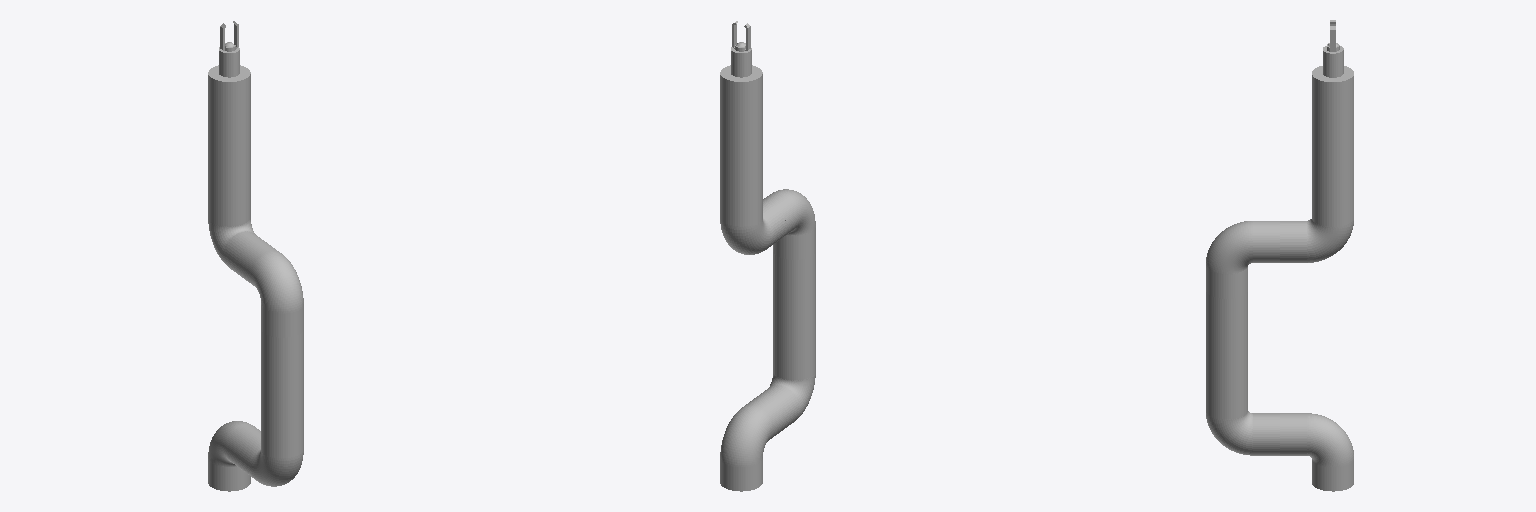
URDF robot description (RobotArm):
<?xml version="1.0" ?>
<robot name="RobotArm" xmlns:xacro="http://www.ros.org/wiki/xacro">

  <material name="silver">
    <color rgba="0.75 0.75 0.75 1.0"/>
  </material>

  <link name="base_link">
    <inertial>
      <origin xyz="0.0 3.0473805790115944e-17 0.06710526315789474" rpy="0 0 0"/>
      <mass value="7.028528164243764"/>
      <inertia ixx="0.01717" iyy="0.01717" izz="0.00701" ixy="0.0" iyz="0.0" ixz="0.0"/>
    </inertial>
    <visual>
      <origin xyz="0 0 0" rpy="0 0 0"/>
      <geometry>
        <mesh filename="package://moveit_resources_panda_description/meshes/collision/base_link.stl" scale="0.001 0.001 0.001"/>
      </geometry>
      <material name="silver"/>
    </visual>
    <collision>
      <origin xyz="0 0 0" rpy="0 0 0"/>
      <geometry>
        <mesh filename="package://moveit_resources_panda_description/meshes/collision/base_link.stl" scale="0.001 0.001 0.001"/>
      </geometry>
    </collision>
  </link>

  <link name="Componente4_1">
    <inertial>
      <origin xyz="1.0134334491220965e-17 -0.026755885129270393 0.07324411487072963" rpy="0 0 0"/>
      <mass value="7.044896154850844"/>
      <inertia ixx="0.018585" iyy="0.012111" izz="0.012111" ixy="0.0" iyz="0.005089" ixz="0.0"/>
    </inertial>
    <visual>
      <origin xyz="0.0 0.0 -0.15" rpy="0 0 0"/> <geometry>
        <mesh filename="package://moveit_resources_panda_description/meshes/collision/Componente4_1.stl" scale="0.001 0.001 0.001"/>
      </geometry>
      <material name="silver"/>
    </visual>
    <collision>
      <origin xyz="0.0 0.0 -0.15" rpy="0 0 0"/> <geometry>
        <mesh filename="package://moveit_resources_panda_description/meshes/collision/Componente4_1.stl" scale="0.001 0.001 0.001"/>
      </geometry>
    </collision>
  </link>

  <link name="Componente5_1">
    <inertial>
      <origin xyz="0.0 -0.08738047991046766 0.11828872124986534" rpy="0 0 0"/>
      <mass value="14.93657690066839"/>
      <inertia ixx="0.162427" iyy="0.153287" izz="0.021088" ixy="0.0" iyz="0.022342" ixz="0.0"/>
    </inertial>
    <visual>
      <origin xyz="0.0 0.1 -0.25" rpy="0 0 0"/> <geometry>
        <mesh filename="package://moveit_resources_panda_description/meshes/collision/Componente5_1.stl" scale="0.001 0.001 0.001"/>
      </geometry>
      <material name="silver"/>
    </visual>
    <collision>
      <origin xyz="0.0 0.1 -0.25" rpy="0 0 0"/> <geometry>
        <mesh filename="package://moveit_resources_panda_description/meshes/collision/Componente5_1.stl" scale="0.001 0.001 0.001"/>
      </geometry>
    </collision>
  </link>

  <link name="Componente6_1">
    <inertial>
      <origin xyz="0.0 0.026755885129270546 0.07324411487072946" rpy="0 0 0"/>
      <mass value="7.044896154850833"/>
      <inertia ixx="0.018585" iyy="0.012111" izz="0.012111" ixy="0.0" iyz="-0.005089" ixz="0.0"/>
    </inertial>
    <visual>
      <origin xyz="0.0 0.2 -0.55" rpy="0 0 0"/> <geometry>
        <mesh filename="package://moveit_resources_panda_description/meshes/collision/Componente6_1.stl" scale="0.001 0.001 0.001"/>
      </geometry>
      <material name="silver"/>
    </visual>
    <collision>
      <origin xyz="0.0 0.2 -0.55" rpy="0 0 0"/> <geometry>
        <mesh filename="package://moveit_resources_panda_description/meshes/collision/Componente6_1.stl" scale="0.001 0.001 0.001"/>
      </geometry>
    </collision>
  </link>

  <link name="Componente7_1">
    <inertial>
      <origin xyz="2.673220995321651e-07 0.08918779058748391 0.1494478643113606" rpy="0 0 0"/>
      <mass value="17.433294627889037"/>
      <inertia ixx="0.266514" iyy="0.257034" izz="0.023108" ixy="0.0" iyz="-0.028215" ixz="-1e-06"/>
    </inertial>
    <visual>
      <origin xyz="0.0 0.1 -0.65" rpy="0 0 0"/> <geometry>
        <mesh filename="package://moveit_resources_panda_description/meshes/collision/Componente7_1.stl" scale="0.001 0.001 0.001"/>
      </geometry>
      <material name="silver"/>
    </visual>
    <collision>
      <origin xyz="0.0 0.1 -0.65" rpy="0 0 0"/> <geometry>
        <mesh filename="package://moveit_resources_panda_description/meshes/collision/Componente7_1.stl" scale="0.001 0.001 0.001"/>
      </geometry>
    </collision>
  </link>

  <link name="Componente8_1">
    <inertial>
      <origin xyz="-3.0163950392876806e-05 -1.1628250065204183e-15 0.026412072740170656" rpy="0 0 0"/>
      <mass value="0.03594944014624574"/>
      <inertia ixx="1e-05" iyy="1.7e-05" izz="8e-06" ixy="0.0" iyz="0.0" ixz="0.0"/>
    </inertial>
    <visual>
      <origin xyz="0.0 0.0 -1.05" rpy="0 0 0"/> <geometry>
        <mesh filename="package://moveit_resources_panda_description/meshes/collision/Componente8_1.stl" scale="0.001 0.001 0.001"/>
      </geometry>
      <material name="silver"/>
    </visual>
    <collision>
      <origin xyz="0.0 0.0 -1.05" rpy="0 0 0"/> <geometry>
        <mesh filename="package://moveit_resources_panda_description/meshes/collision/Componente8_1.stl" scale="0.001 0.001 0.001"/>
      </geometry>
    </collision>
  </link>

  <joint name="limb1_to_base_link" type="continuous">
    <origin xyz="0.0 0.0 0.15" rpy="0 0 0"/>
    <parent link="base_link"/>
    <child link="Componente4_1"/>
    <axis xyz="0.0 0.0 1.0"/>
    </joint>

  <joint name="limb2_to_limb1" type="revolute">
    <origin xyz="0.0 -0.1 0.1" rpy="0 0 0"/>
    <parent link="Componente4_1"/>
    <child link="Componente5_1"/>
    <axis xyz="0.0 -1.0 0.0"/>
    <limit upper="1.570796" lower="-1.570796" effort="100" velocity="100"/>
  </joint>

  <joint name="limb3_to_limb2" type="continuous">
    <origin xyz="0.0 -0.1 0.3" rpy="0 0 0"/>
    <parent link="Componente5_1"/>
    <child link="Componente6_1"/>
    <axis xyz="0.0 0.0 1.0"/>
    </joint>

  <joint name="limb4_to_limb3" type="revolute">
    <origin xyz="0.0 0.1 0.1" rpy="0 0 0"/>
    <parent link="Componente6_1"/>
    <child link="Componente7_1"/>
    <axis xyz="0.0 1.0 0.0"/>
    <limit upper="2.792527" lower="-2.792527" effort="100" velocity="100"/>
  </joint>

  <joint name="limb5_to_limb4" type="continuous">
    <origin xyz="0.0 0.1 0.4" rpy="0 0 0"/>
    <parent link="Componente7_1"/>
    <child link="Componente8_1"/>
    <axis xyz="0.0 0.0 1.0"/>
    </joint>

  <ros2_control name="GazeboSystem" type="system">
    <hardware>
      <plugin>gazebo_ros2_control/GazeboSystem</plugin>
    </hardware>
    <joint name="limb1_to_base_link">
      <command_interface name="position"/> <state_interface name="position"/>
      <state_interface name="velocity"/>
    </joint>
    <joint name="limb2_to_limb1">
      <command_interface name="position">
        <param name="min">-1.570796</param>
        <param name="max">1.570796</param>
      </command_interface>
      <state_interface name="position"/>
      <state_interface name="velocity"/>
    </joint>
    <joint name="limb3_to_limb2">
      <command_interface name="position"/>
      <state_interface name="position"/>
      <state_interface name="velocity"/>
    </joint>
    <joint name="limb4_to_limb3">
      <command_interface name="position">
        <param name="min">-2.792527</param>
        <param name="max">2.792527</param>
      </command_interface>
      <state_interface name="position"/>
      <state_interface name="velocity"/>
    </joint>
    <joint name="limb5_to_limb4">
      <command_interface name="position"/>
      <state_interface name="position"/>
      <state_interface name="velocity"/>
    </joint>
  </ros2_control>

  <gazebo>
    <plugin name="gazebo_ros2_control" filename="libgazebo_ros2_control.so">
      <parameters>package://RobotArm_description/config/controllers.yaml</parameters>
      </plugin>
  </gazebo>

  <gazebo reference="base_link">
    <material>Gazebo/Silver</material>
    <mu1>0.2</mu1> <mu2>0.2</mu2>
  </gazebo>
  <gazebo reference="Componente4_1">
    <material>Gazebo/Silver</material>
    <mu1>0.2</mu1>
    <mu2>0.2</mu2>
  </gazebo>
  <gazebo reference="Componente5_1">
    <material>Gazebo/Silver</material>
    <mu1>0.2</mu1>
    <mu2>0.2</mu2>
  </gazebo>
  <gazebo reference="Componente6_1">
    <material>Gazebo/Silver</material>
    <mu1>0.2</mu1>
    <mu2>0.2</mu2>
  </gazebo>
  <gazebo reference="Componente7_1">
    <material>Gazebo/Silver</material>
    <mu1>0.2</mu1>
    <mu2>0.2</mu2>
  </gazebo>
  <gazebo reference="Componente8_1">
    <material>Gazebo/Silver</material>
    <mu1>0.2</mu1>
    <mu2>0.2</mu2>
  </gazebo>

</robot>

--- Facts derived from the render (not from the file) ---
3 views of the same robot in one strip: view 1: azimuth 30°, elevation 25°; view 2: azimuth 150°, elevation 25°; view 3: azimuth 270°, elevation 25° (orthographic).
Model RobotArm with 6 links and 5 joints (2 revolute, 3 continuous), rooted at base_link, posed all joints at 0.
Visible links, largest first — view 1: Componente7_1, Componente5_1, Componente6_1, Componente4_1; view 2: Componente7_1, Componente5_1, Componente4_1, Componente6_1; view 3: Componente7_1, Componente5_1, Componente4_1, Componente6_1.
Link boxes in pixels (left/top/right/bottom): Componente7_1: left=208, top=42, right=266, bottom=275; Componente5_1: left=238, top=330, right=303, bottom=486; Componente6_1: left=238, top=241, right=303, bottom=337; Componente4_1: left=208, top=421, right=260, bottom=491; Componente7_1: left=720, top=42, right=785, bottom=254; Componente5_1: left=757, top=252, right=815, bottom=430; Componente4_1: left=720, top=395, right=785, bottom=491; Componente6_1: left=763, top=189, right=815, bottom=259; Componente7_1: left=1280, top=43, right=1353, bottom=262; Componente5_1: left=1206, top=292, right=1279, bottom=455; Componente4_1: left=1280, top=413, right=1353, bottom=491; Componente6_1: left=1206, top=221, right=1279, bottom=298.
Bounding box of the posed robot: 0.08 × 0.28 × 0.9544 m (x, y, z).
Meshes: 6 distinct files referenced, 5 mesh visuals loaded (5 binary STL); not drawn: 1 (reference not matched to a file when rendering).